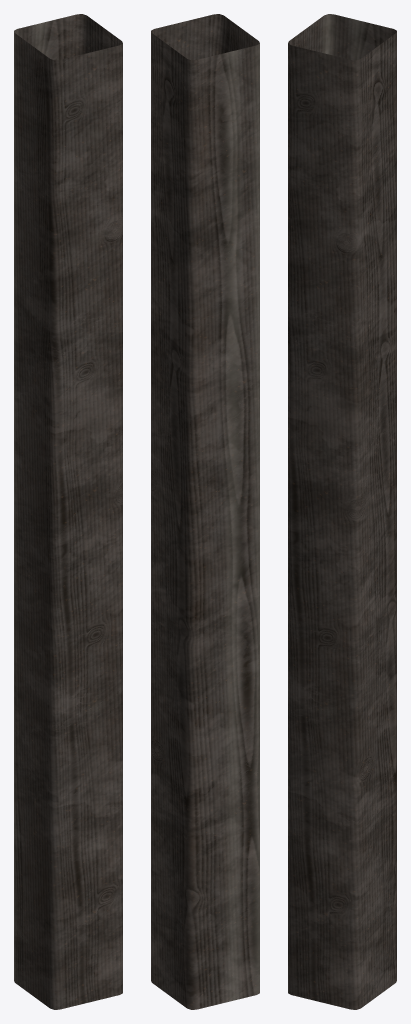
The model's file is ShrineModule_Piller-01.fbx.
The picture shows the model from 3 angles, left to right: view 1: azimuth 30°, elevation 25°; view 2: azimuth 210°, elevation 25°; view 3: azimuth 330°, elevation 25°; orthographic projection.
Parts seen in each view (by area): view 1: ShrineModule_Piller-01; view 2: ShrineModule_Piller-01; view 3: ShrineModule_Piller-01.
Part boxes in pixels (x1,y1,x2,y2): ShrineModule_Piller-01: (14,14,122,1009); ShrineModule_Piller-01: (151,14,259,1009); ShrineModule_Piller-01: (288,14,396,1009).
Bounding box in the file's own units: 0.4409 × 5.56 × 0.4495.
